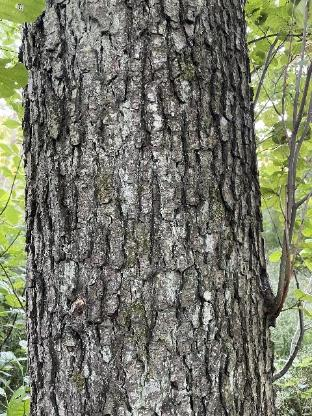tree: (17, 0, 287, 416)
